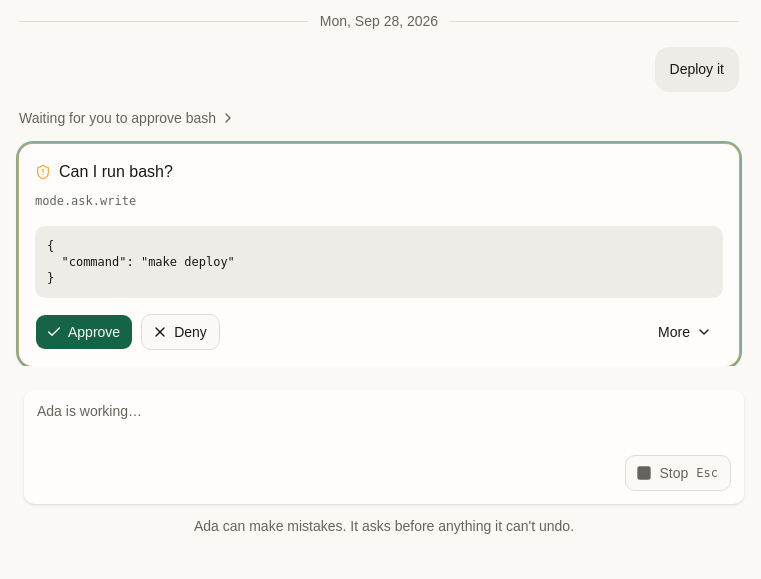
it: a thread's panel › a waiting approval › marks the answer pressed while it is out, and shows why once it fails
This screenshot has width=761, height=579.
Click the button "Approve".
click(84, 332)  # box [35,314,133,350]
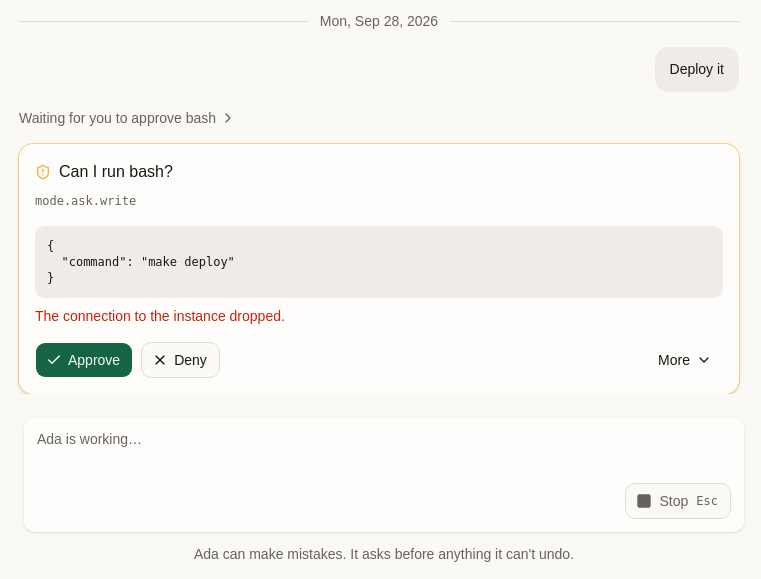
Expected: the button "Approve" is enabled, [35,342,133,378]
Now the message reads "The connection to the instance dropped.", box [35,308,285,324]
